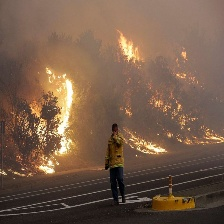fire: (33, 62, 73, 175), (157, 98, 224, 144), (117, 125, 169, 160), (114, 31, 144, 62), (123, 97, 137, 118), (176, 48, 192, 61)
smoke: (5, 4, 108, 82)
